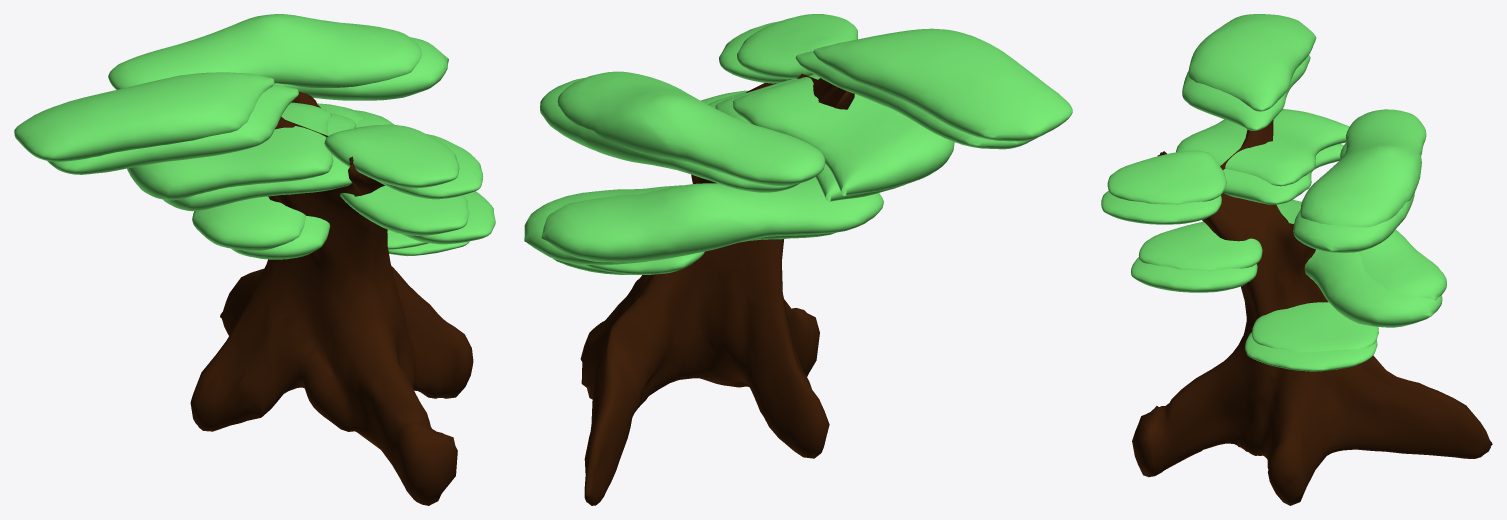
Rendered from unitree joined model.fbx.
3 renders of one model, left to right at view 1: azimuth 30°, elevation 25°; view 2: azimuth 150°, elevation 25°; view 3: azimuth 270°, elevation 25°, orthographic. The views are drawn at different scales.
Parts seen in each view (by area): view 1: Mball.010; view 2: Mball.010; view 3: Mball.010.
Part boxes in pixels (x1=…): Mball.010: x1=14, y1=14, x2=495, y2=505; Mball.010: x1=524, y1=14, x2=1072, y2=505; Mball.010: x1=1101, y1=14, x2=1492, y2=505.
Size of the model in its own units: 1675 by 1437 by 1453.
